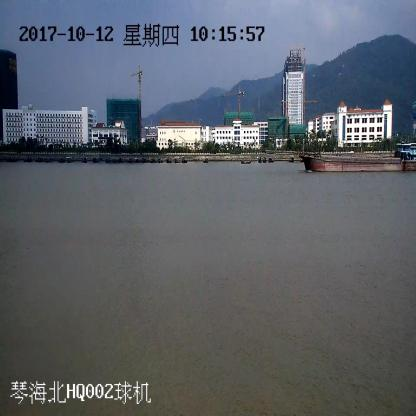Bulk Carrier: (302, 141, 415, 171)
